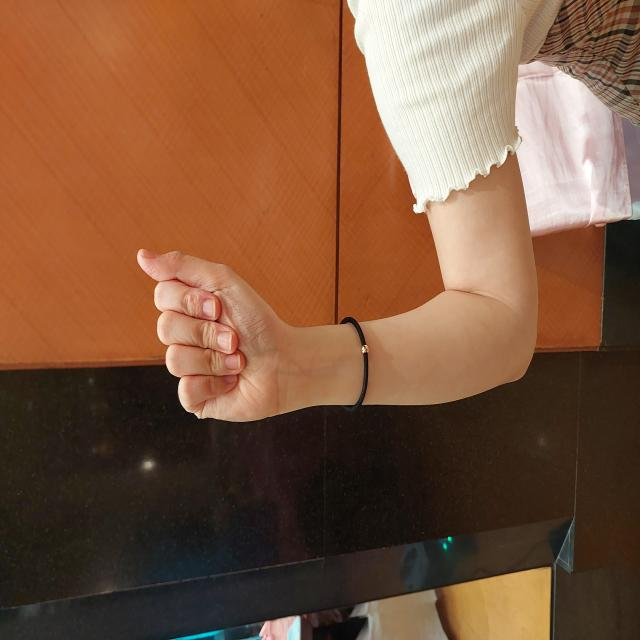A: (215, 135, 393, 289)
